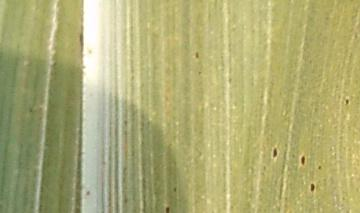tarspot: (298, 154, 307, 168), (271, 144, 278, 160), (226, 72, 233, 86), (308, 182, 316, 194), (342, 95, 350, 106), (163, 204, 171, 213), (84, 186, 90, 196), (194, 51, 200, 60), (80, 63, 87, 70), (172, 185, 178, 193), (316, 164, 322, 171), (291, 152, 297, 159), (28, 107, 33, 115), (38, 105, 43, 113), (197, 70, 203, 76), (38, 115, 44, 121), (87, 48, 91, 55)
